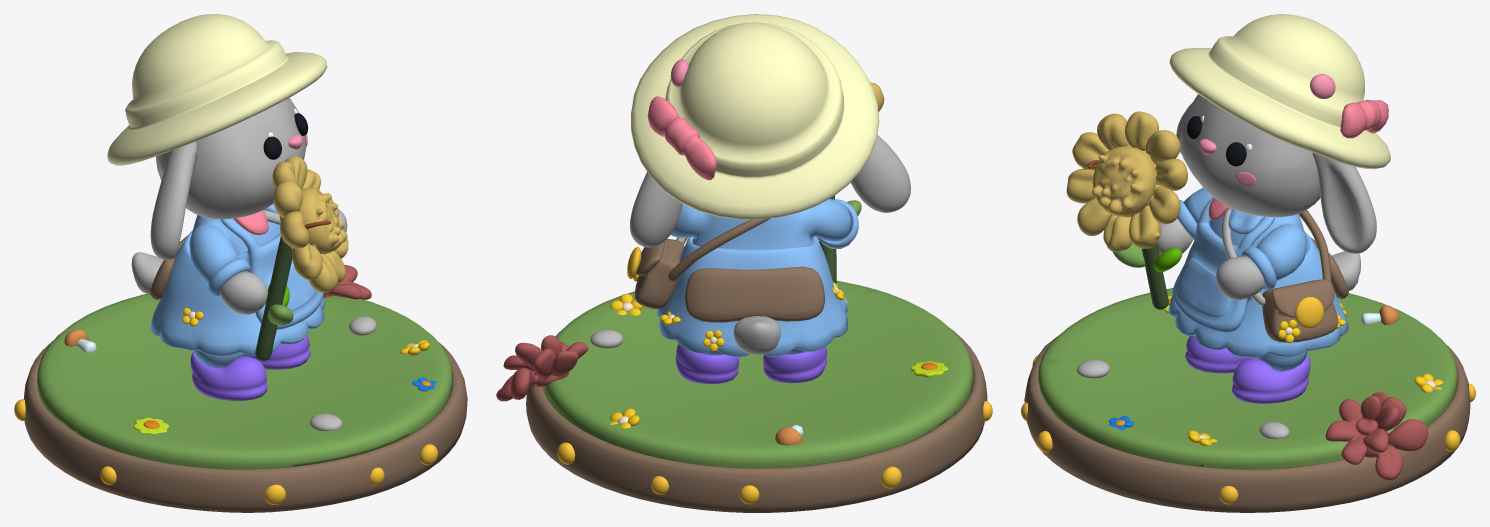
The model's file is SunflowerBunny3dModel.fbx.
3 renders of one model, left to right at view 1: azimuth 30°, elevation 25°; view 2: azimuth 150°, elevation 25°; view 3: azimuth 270°, elevation 25°, orthographic. The views are drawn at different scales.
Parts seen in each view (by area): view 1: S_SunflowerBunny3dModel, M_SunflowerBunny3dModel; view 2: M_SunflowerBunny3dModel, S_SunflowerBunny3dModel; view 3: M_SunflowerBunny3dModel, S_SunflowerBunny3dModel, D_SunflowerBunny3dModel_7, D_SunflowerBunny3dModel_1, D_SunflowerBunny3dModel_11.
Part boxes in pixels (x1,y1,x2,y2): S_SunflowerBunny3dModel: (23,236,467,512); M_SunflowerBunny3dModel: (107,14,371,400); M_SunflowerBunny3dModel: (496,14,910,401); S_SunflowerBunny3dModel: (526,195,987,512); M_SunflowerBunny3dModel: (1066,14,1428,480); S_SunflowerBunny3dModel: (1024,244,1470,512); D_SunflowerBunny3dModel_7: (1295,297,1323,328); D_SunflowerBunny3dModel_1: (1361,305,1399,324); D_SunflowerBunny3dModel_11: (1310,74,1335,98).
Size of the model in its own units: 814 by 783 by 820.
